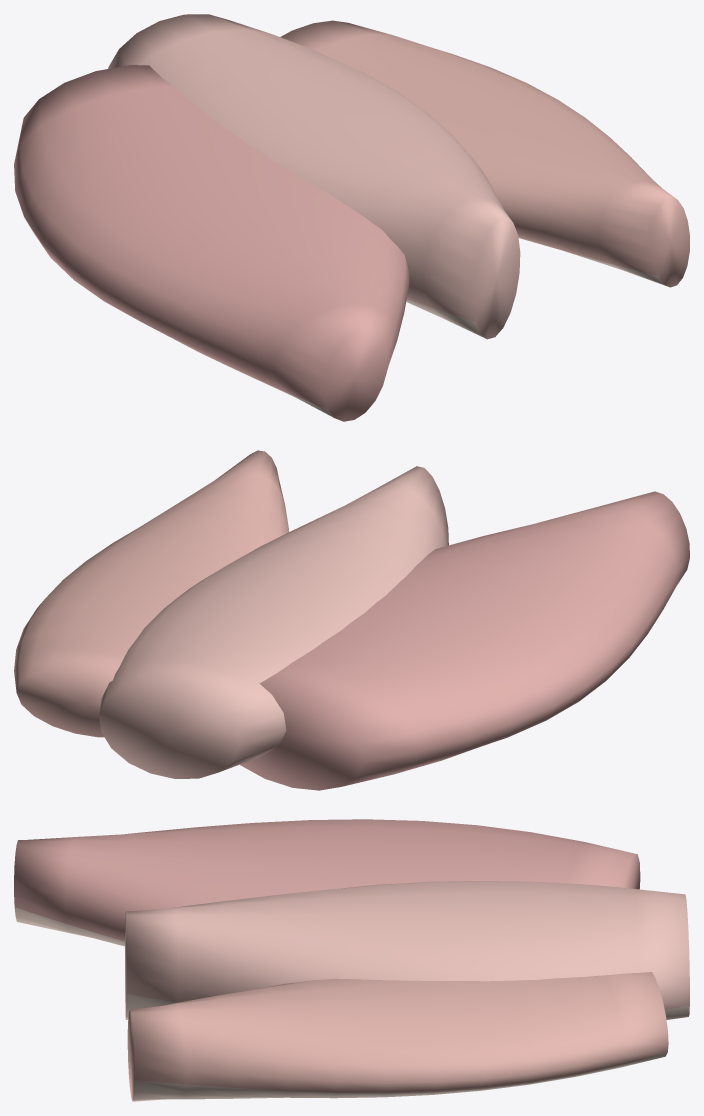
File: meat-pale.glb
3 views of the same model, one above another, from view 1: azimuth 30°, elevation 25°; view 2: azimuth 150°, elevation 25°; view 3: azimuth 270°, elevation 25° (orthographic). The views are drawn at different scales.
Visible parts, largest first — view 1: Left_broad, Middle_fold, Right_round; view 2: Left_broad, Middle_fold, Right_round; view 3: Right_round, Middle_fold, Left_broad.
Part boxes in pixels (x1,y1,x2,y2): Left_broad: (14, 65, 409, 421); Middle_fold: (108, 14, 520, 339); Right_round: (280, 20, 689, 287); Left_broad: (240, 491, 689, 790); Middle_fold: (99, 466, 448, 778); Right_round: (14, 450, 289, 737); Right_round: (127, 972, 668, 1101); Middle_fold: (125, 881, 689, 1019); Left_broad: (14, 819, 640, 946).
Bounding box in the file's own units: 0.8646 × 0.1819 × 0.9987.
